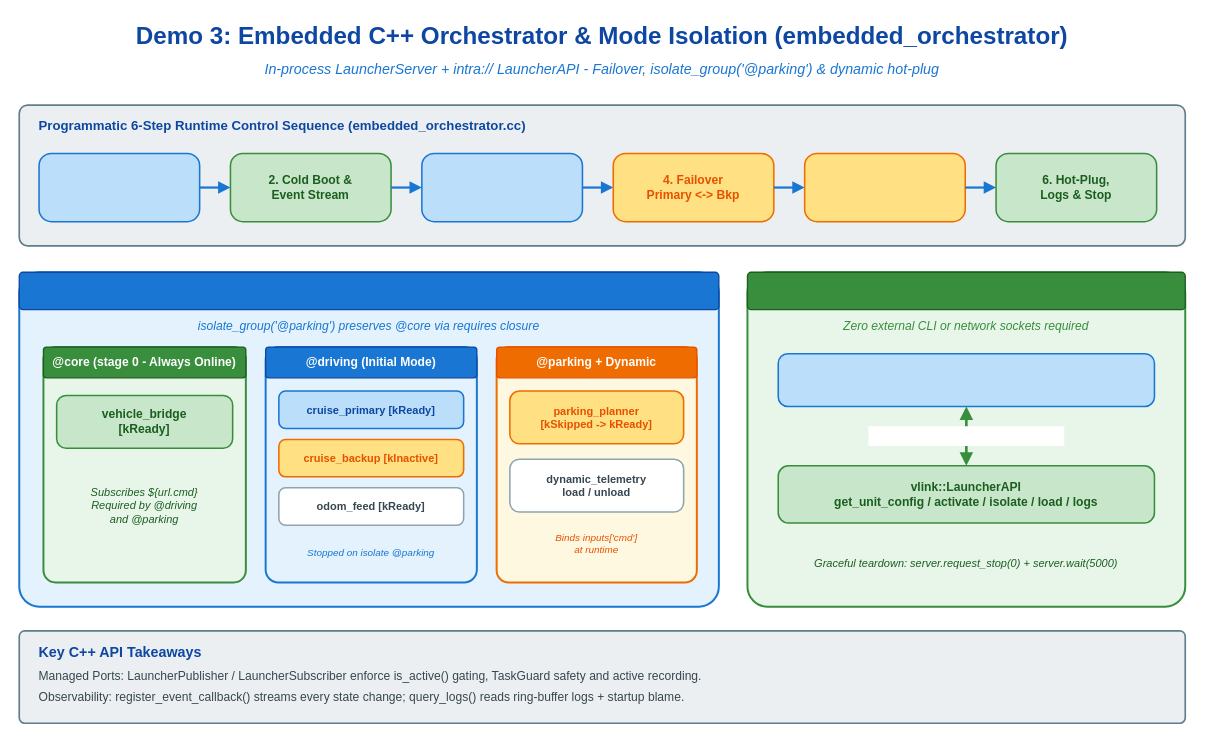
Some shapes in this 1206 by 743 pixel diagram are drawn without their labels. The box of each missing label's shape, as (x1, y1, x2, y2) in pixels:
1. Inspect & Validate: (38, 152, 200, 222)
3. set_param & reload_unit: (421, 152, 583, 222)
5. isolate @parking: (803, 152, 965, 222)
intra://embedded_demo/*: (868, 426, 1064, 446)
Managed Component Groups & Mode Switch: (18, 271, 719, 310)
Single-Process Embedded Host: (746, 271, 1185, 310)
vlink::LauncherServer control_scheme='intra': (777, 352, 1155, 407)
